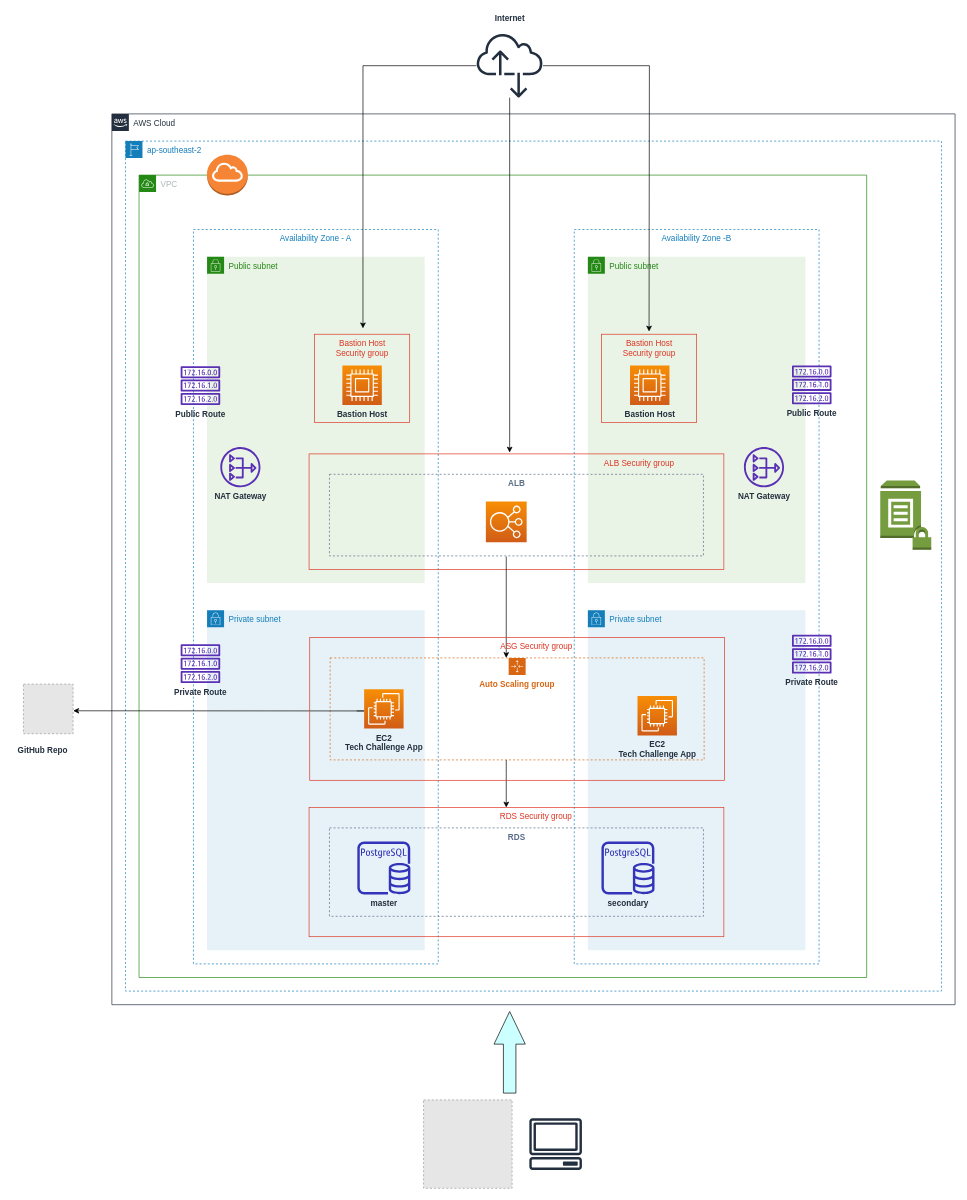
Image size: 967x1200. Some labels were removed from this diagram. Grey dashed boxes stand in for pictures. The centre of each missing label's shape, as x and y in pixels:
Client: pixel 555 1144
Internet Gateway: pixel 227 175
Parameter Store: pixel 905 515
